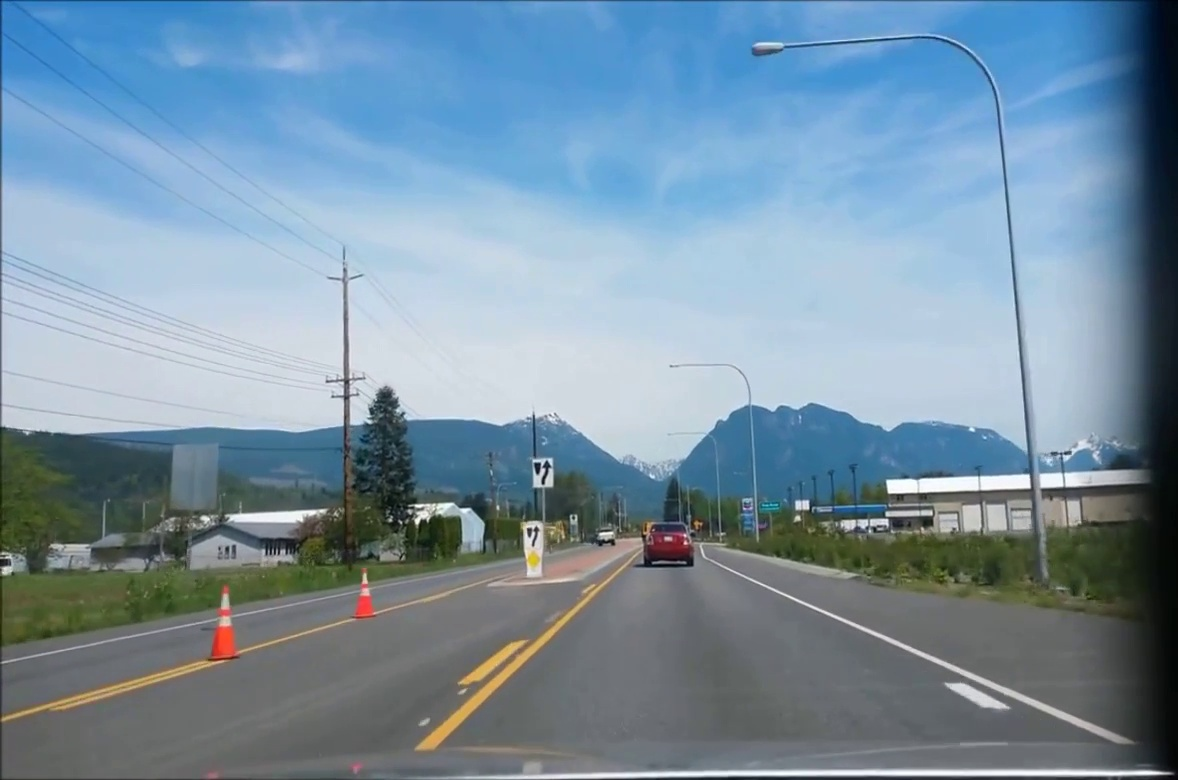Cone: (210, 583, 239, 662), (354, 565, 375, 619)
